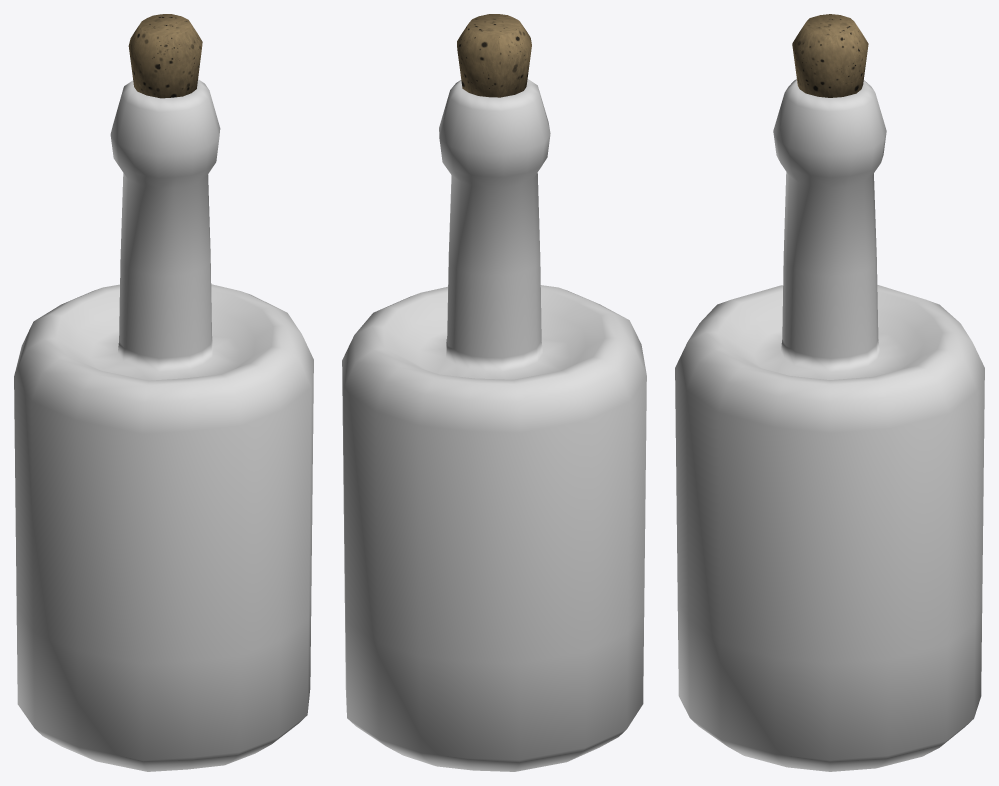
File: pullo.fbx
3 views of the same model, side by side, from view 1: azimuth 30°, elevation 25°; view 2: azimuth 150°, elevation 25°; view 3: azimuth 270°, elevation 25° (orthographic).
Visible parts, largest first — view 1: Cube, Cube.001; view 2: Cube, Cube.001; view 3: Cube, Cube.001.
Part boxes in pixels (bbox=[...]): Cube: bbox=[14, 79, 313, 771]; Cube.001: bbox=[128, 14, 202, 98]; Cube: bbox=[342, 79, 646, 771]; Cube.001: bbox=[457, 14, 531, 97]; Cube: bbox=[675, 79, 984, 771]; Cube.001: bbox=[792, 14, 868, 97].
Size of the model in its own units: 146 by 364 by 147.
